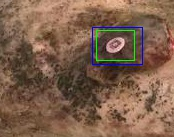text: (96, 30, 134, 60)
